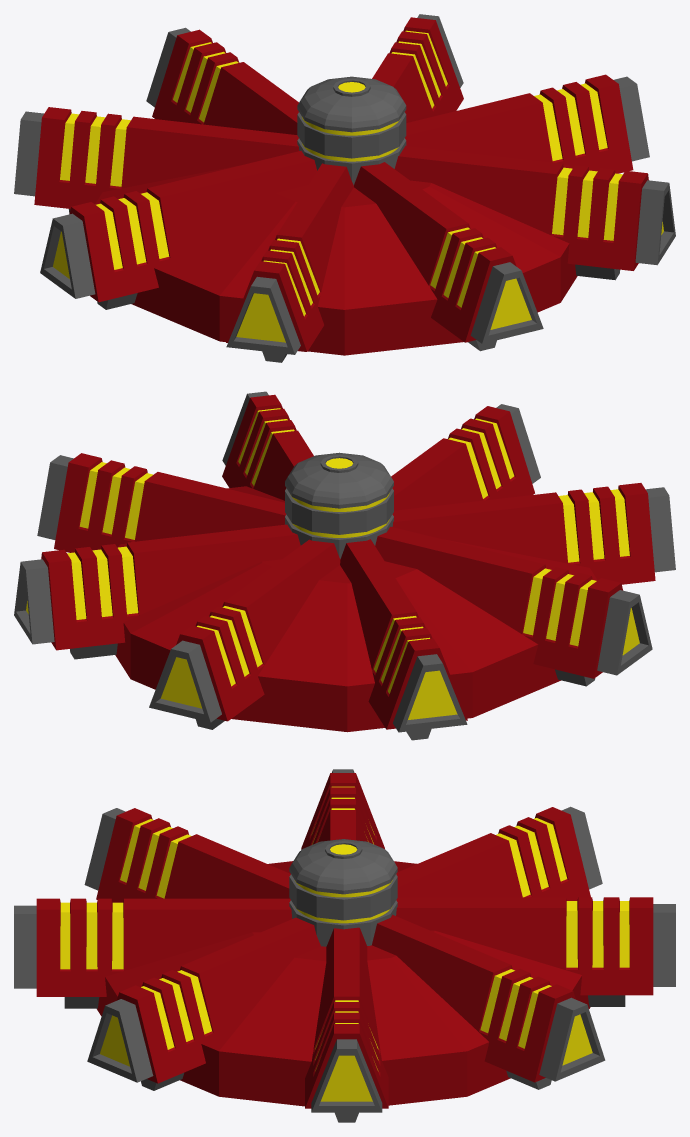
The model's file is Volley_Top_Lvl2.fbx.
3 renders of one model, top to bottom at view 1: azimuth 30°, elevation 25°; view 2: azimuth 150°, elevation 25°; view 3: azimuth 270°, elevation 25°, orthographic.
Parts seen in each view (by area): view 1: Cylinder.038, Cube.062, Cube.032, Cube.052, Cube.042, Cube.047, Cube.037, Cube.067, Gun Side Piece L.015, Cube.057, Cube.033, Cube.063 (+16 smaller); view 2: Cylinder.038, Cube.057, Cube.032, Cube.067, Cube.042, Cube.037, Cube.047, Cube.052, Gun Side Piece L.015, Cube.062, Cube.033, Cube.058 (+17 smaller); view 3: Cylinder.038, Cube.037, Cube.047, Cube.057, Cube.062, Cube.052, Cube.067, Gun Side Piece L.015, Cube.042, Cube.032, Cube.058, Cube.063 (+15 smaller).
Boxes of the visible parts, left/top/right/bottom form: Cylinder.038: left=95, top=109, right=577, bottom=355; Cube.062: left=394, top=145, right=648, bottom=270; Cube.032: left=69, top=150, right=317, bottom=302; Cube.052: left=34, top=107, right=299, bottom=208; Cube.042: left=405, top=74, right=633, bottom=173; Cube.047: left=354, top=162, right=516, bottom=342; Cube.037: left=152, top=29, right=298, bottom=134; Cube.067: left=226, top=163, right=353, bottom=351; Gun Side Piece L.015: left=297, top=76, right=406, bottom=185; Cube.057: left=372, top=17, right=463, bottom=121; Cube.033: left=40, top=213, right=95, bottom=298; Cube.063: left=635, top=180, right=675, bottom=265; Cylinder.038: left=115, top=486, right=597, bottom=732; Cube.057: left=41, top=524, right=300, bottom=650; Cube.032: left=375, top=526, right=622, bottom=678; Cube.067: left=392, top=483, right=655, bottom=584; Cube.042: left=54, top=453, right=286, bottom=552; Cube.037: left=176, top=539, right=340, bottom=721; Cube.047: left=391, top=406, right=534, bottom=510; Cube.052: left=340, top=539, right=467, bottom=729; Gun Side Piece L.015: left=285, top=452, right=393, bottom=558; Cube.062: left=222, top=394, right=313, bottom=500; Cube.033: left=597, top=590, right=652, bottom=675; Cube.058: left=14, top=559, right=54, bottom=644; Cylinder.038: left=97, top=861, right=590, bottom=1106; Cube.037: left=396, top=897, right=653, bottom=995; Cube.047: left=36, top=898, right=292, bottom=996; Cube.057: left=372, top=914, right=575, bottom=1082; Cube.062: left=116, top=917, right=320, bottom=1083; Cube.052: left=396, top=807, right=590, bottom=900; Cube.067: left=96, top=808, right=290, bottom=902; Gun Side Piece L.015: left=289, top=839, right=397, bottom=946; Cube.042: left=305, top=927, right=388, bottom=1108; Cube.032: left=301, top=773, right=384, bottom=849; Cube.058: left=539, top=997, right=605, bottom=1081; Cube.063: left=87, top=999, right=153, bottom=1082.
Size of the model in its own units: 446 by 119 by 446.
